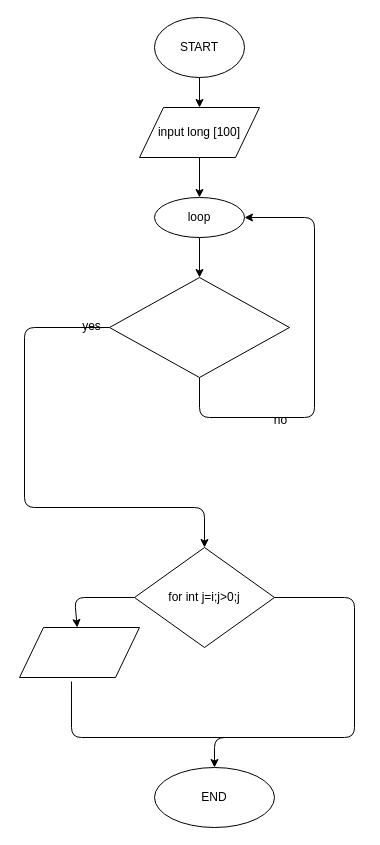
The diagram is 380 pixels wide and 845 high, and some of its shapes have lost their labels. The shapes that lost their labels are listed below. From the top down, each one's centre as x and y in pixels, then its label:
the point at 199,327: for int 1=0;i<n;c[0]= -c[0],i++ c[1=i]=1
the point at 79,652: c[j]=c[j-1]-c[j]
